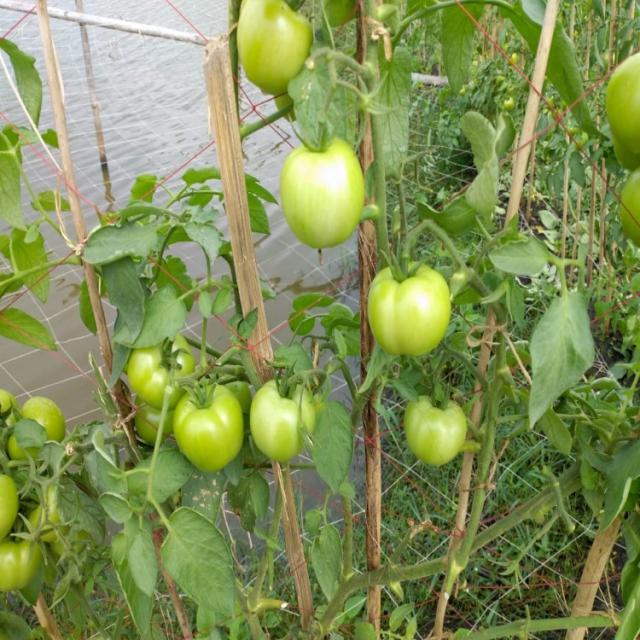tomato: (279, 139, 374, 247), (368, 256, 452, 357), (233, 1, 320, 95), (249, 362, 323, 465), (1, 471, 58, 596), (176, 383, 247, 474), (400, 397, 476, 467), (3, 388, 70, 460), (602, 53, 640, 170), (126, 330, 199, 380), (127, 383, 170, 446), (618, 175, 640, 244), (499, 95, 524, 116), (505, 51, 524, 74), (576, 133, 596, 148)
